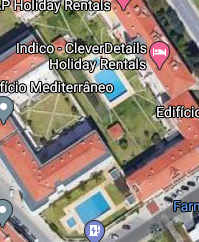pool: (76, 197, 112, 219), (98, 69, 123, 100)
